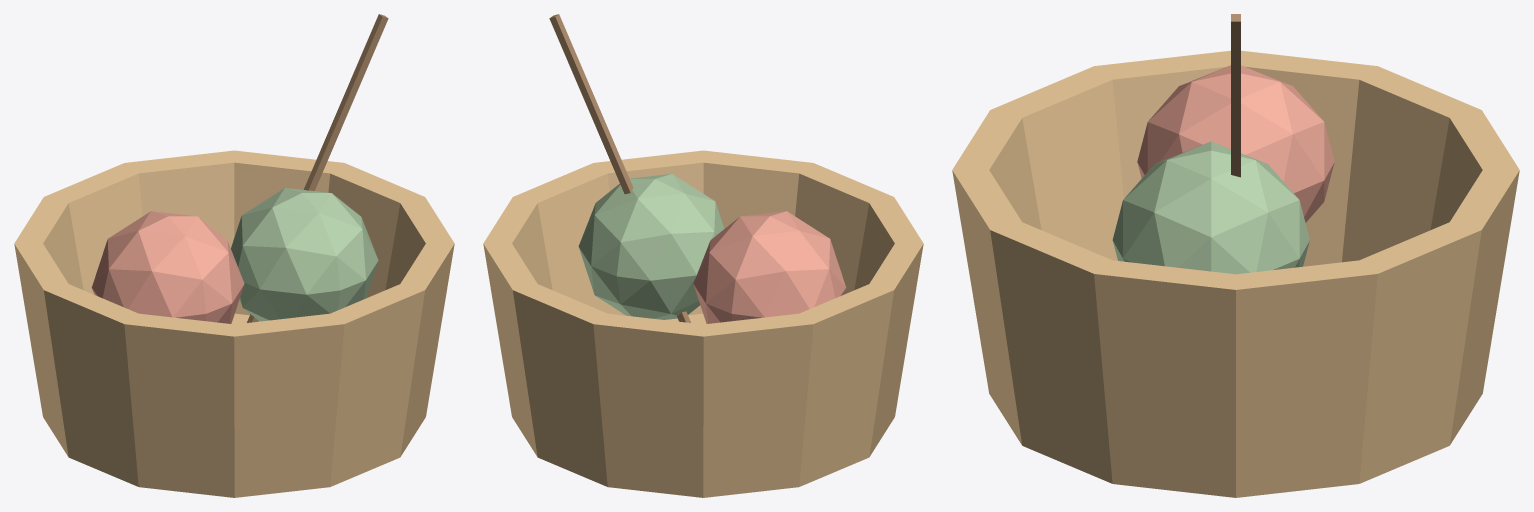
The model's file is cozy-home-interiors-yarn-basket-89bd118a.glb.
3 renders of one model, left to right at view 1: azimuth 30°, elevation 25°; view 2: azimuth 150°, elevation 25°; view 3: azimuth 270°, elevation 25°, orthographic. The views are drawn at different scales.
Parts seen in each view (by area): view 1: yarn-basket; view 2: yarn-basket; view 3: yarn-basket.
Part boxes in pixels (x1,y1,x2,y2): yarn-basket: [14, 14, 454, 497]; yarn-basket: [483, 14, 923, 497]; yarn-basket: [952, 14, 1519, 497].
Bounding box in the file's own units: 0.46 × 0.4218 × 0.46.
